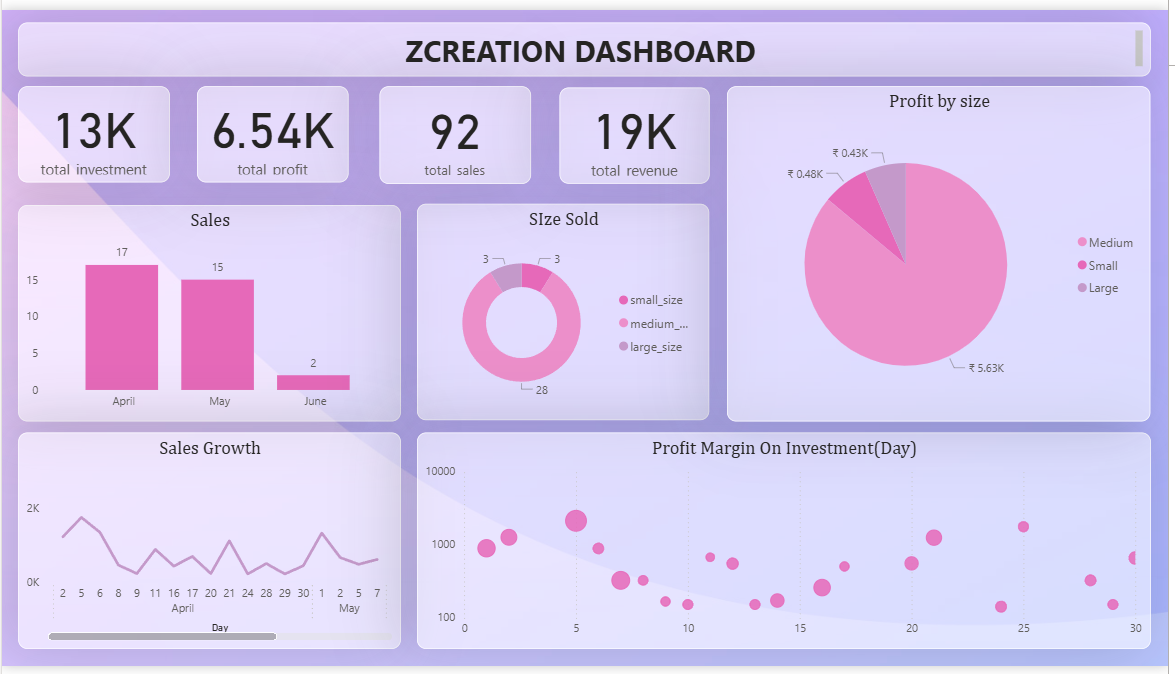

Layout of this report page (visuals, bound fields, positions):
{"tool":"powerbi","page":{"name":"Page 1","canvas":[1280,720],"ordinal":0},"visuals":[{"type":"textbox","box":[17.8,13.7,1243.2,59],"z":0},{"type":"columnChart","title":"Sales","fields":{"Category":["process_data.month"],"Y":["CountNonNull(process_data.size)"]},"box":[17.8,214.1,419.9,237.4],"z":1000},{"type":"donutChart","title":"SIze Sold","fields":{"Y":["process_data.small_size","process_data.medium_size","process_data.large_size"]},"box":[455.6,212.7,321.1,237.4],"z":2000},{"type":"lineChart","title":"Sales Growth","fields":{"Y":["Sum(process_data.revenue)"],"Category":["process_data.date.Variation.Date Hierarchy.Month","process_data.date.Variation.Date Hierarchy.Day"]},"box":[17.8,463.8,419.9,237.4],"z":3000},{"type":"card","fields":{"Values":["process_data.total_investment"]},"box":[17.8,83.7,166,105.7],"z":4000},{"type":"card","fields":{"Values":["process_data.total_profit"]},"box":[214.1,83.7,166,105.7],"z":5000},{"type":"card","fields":{"Values":["process_data.total_sales"]},"box":[414.4,83.7,166,107],"z":6000},{"type":"card","fields":{"Values":["process_data.total_revenue"]},"box":[612,85.1,164.7,105.7],"z":7000},{"type":"scatterChart","title":"Profit Margin On Investment(Day)","fields":{"Size":["Sum(process_data.profit_margin)"],"Y":["process_data.total_investment"],"X":["process_data.date.Variation.Date Hierarchy.Day"]},"box":[455.6,463.8,805.5,237.4],"z":8000},{"type":"pieChart","title":"Profit by size","fields":{"Category":["process_data.size"],"Y":["Sum(process_data.profit)"]},"box":[795.9,83.7,465.2,367.8],"z":9000}]}

Visuals, with their boxes in screenshot pixels (x1, y1, x2, y2), scaled from the page's 1280x720 canvas onto the 1175x674 screenshot:
textbox: bbox=[16, 13, 1158, 68]
"Sales" columnChart: bbox=[16, 200, 402, 423]
"SIze Sold" donutChart: bbox=[418, 199, 713, 421]
"Sales Growth" lineChart: bbox=[16, 434, 402, 656]
card - process_data.total_investment: bbox=[16, 78, 169, 177]
card - process_data.total_profit: bbox=[197, 78, 349, 177]
card - process_data.total_sales: bbox=[380, 78, 533, 179]
card - process_data.total_revenue: bbox=[562, 80, 713, 179]
"Profit Margin On Investment(Day)" scatterChart: bbox=[418, 434, 1158, 656]
"Profit by size" pieChart: bbox=[731, 78, 1158, 423]
